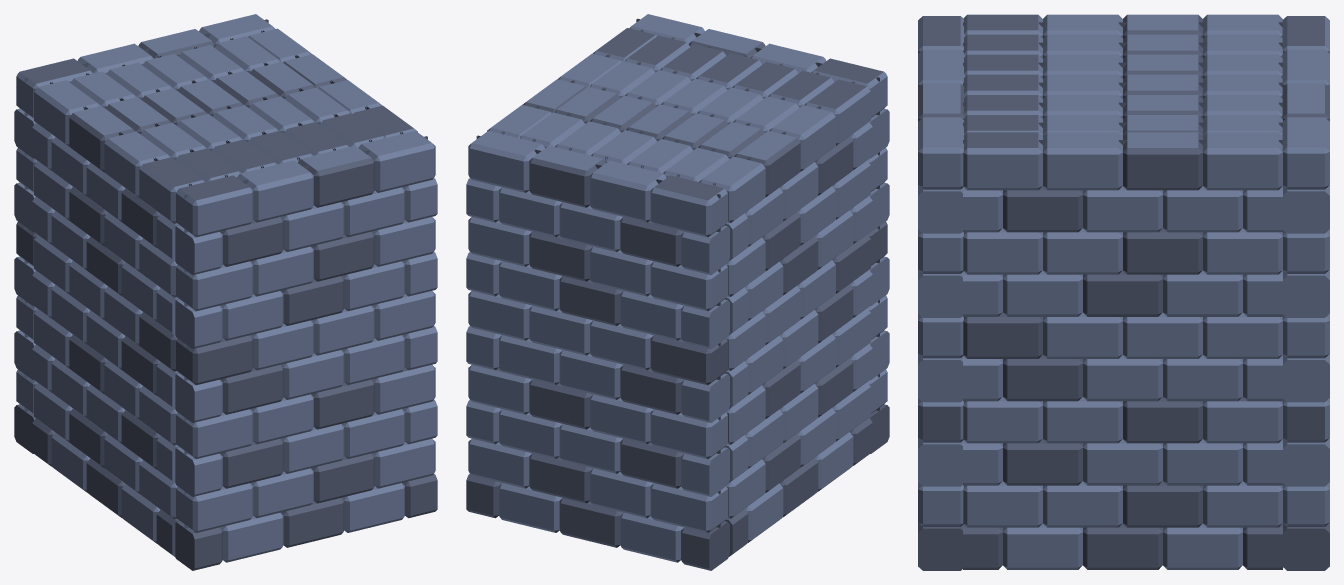
Rendered from wall_fat.fbx.
3 views of the same model, side by side, from view 1: azimuth 30°, elevation 25°; view 2: azimuth 150°, elevation 25°; view 3: azimuth 270°, elevation 25° (orthographic). The views are drawn at different scales.
Visible parts, largest first — view 1: brick wall.003, brick wall.001, brick wall, brick wall.002; view 2: brick wall, brick wall.001, brick wall.003, brick wall.002; view 3: brick wall.002, brick wall.001, brick wall, brick wall.003.
Part boxes in pixels (bbox=[...]): brick wall.003: bbox=[175, 131, 437, 570]; brick wall.001: bbox=[32, 36, 384, 557]; brick wall: bbox=[14, 14, 275, 453]; brick wall.002: bbox=[248, 28, 417, 138]; brick wall: bbox=[466, 131, 729, 570]; brick wall.001: bbox=[520, 35, 872, 556]; brick wall.003: bbox=[629, 14, 889, 453]; brick wall.002: bbox=[487, 28, 656, 138]; brick wall.002: bbox=[963, 132, 1282, 569]; brick wall.001: bbox=[963, 14, 1282, 136]; brick wall: bbox=[1282, 16, 1329, 570]; brick wall.003: bbox=[918, 16, 965, 570].
Bounding box in the file's own units: 215 × 306 × 271.
